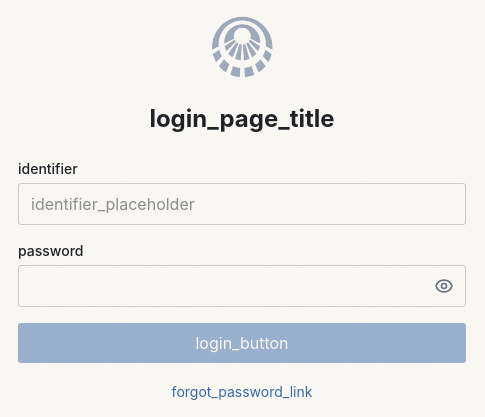
it: LoginForm 2FA step › shows the code step (and hides the password form) when 2fa is required
The width and height of the screenshot is (485, 417).
Type "user@test.com" into the field labelled "identifier" at (242, 204), box [18,182,466,224]
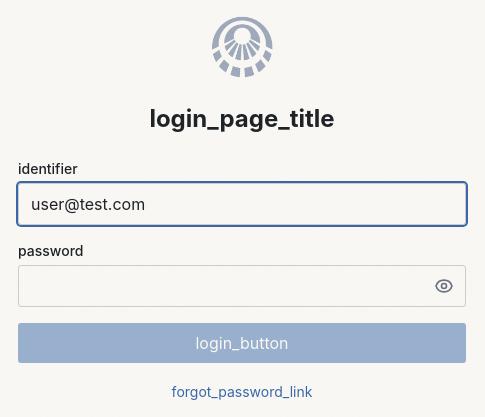
Type "hunter2hunter2" into the password field labelled "password" at (242, 286), box [18,264,466,306]
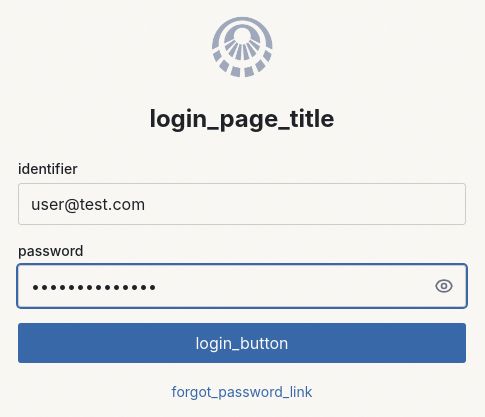
Click the button "login_button" at (242, 342), box [18,322,466,362]
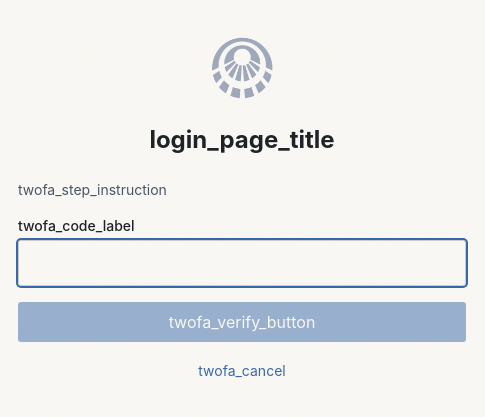
Expected: the field labelled "twofa_code_label" is shown, [18,240,466,286]
Expected: the label labelled "password" is gone
